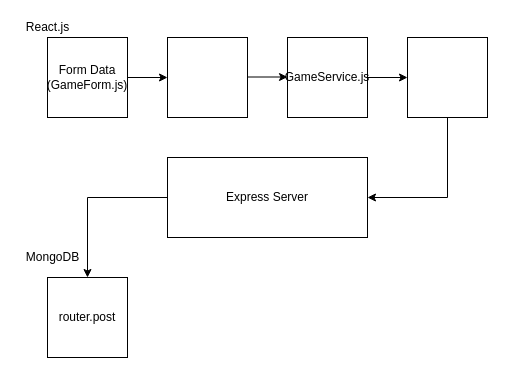
Image size: 505x375. Some labels were removed from this diagram. The box of each missing label's shape, as (x1, y1, x2, y2) in pixels:
createGame (GamesContainer): (166, 36, 248, 118)
postGame: (406, 36, 488, 118)
